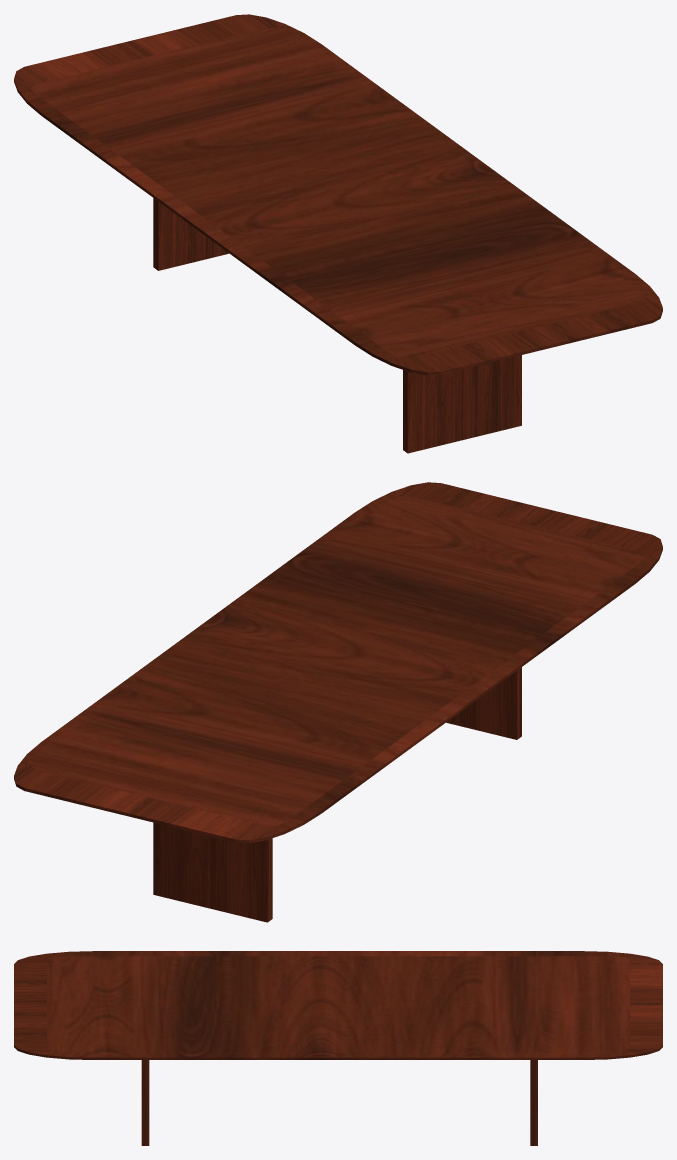
The model's file is Mesa.fbx.
The picture shows the model from 3 angles, top to bottom: view 1: azimuth 30°, elevation 25°; view 2: azimuth 150°, elevation 25°; view 3: azimuth 270°, elevation 25°; orthographic projection. The views are drawn at different scales.
Visible parts, largest first — view 1: Cube.002, Cube, Cube.001; view 2: Cube.002, Cube.001, Cube; view 3: Cube.002, Cube, Cube.001.
Part boxes in pixels (box(x1,y1,x2,y2)): Cube.002: box(14, 14, 662, 375); Cube: box(403, 355, 521, 453); Cube.001: box(153, 198, 228, 270); Cube.002: box(14, 482, 662, 843); Cube.001: box(153, 822, 272, 922); Cube: box(446, 667, 521, 739); Cube.002: box(14, 951, 662, 1059); Cube: box(141, 1060, 149, 1145); Cube.001: box(530, 1060, 537, 1145).
Size of the model in its own units: 391 by 206 by 1006.
Materials: 1 (1 with a texture image).
